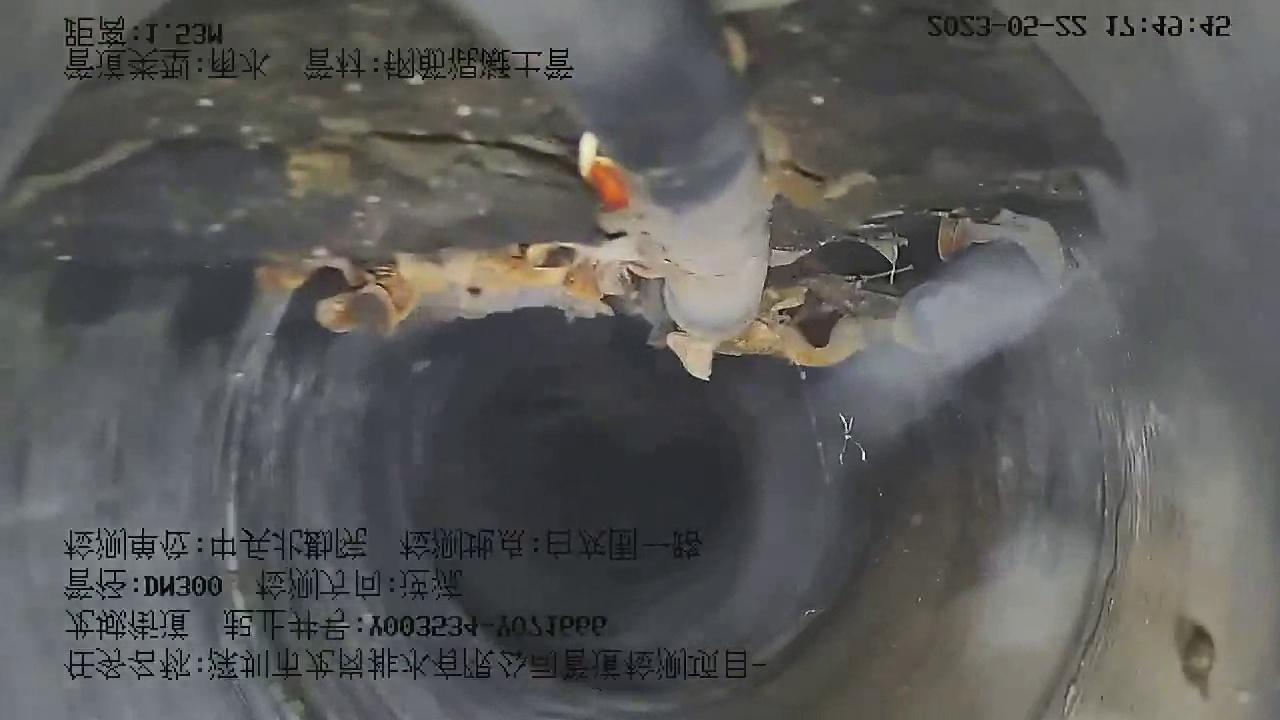CJ: (0, 1, 677, 348), (719, 1, 1116, 367)
YWCR: (448, 1, 771, 379)
